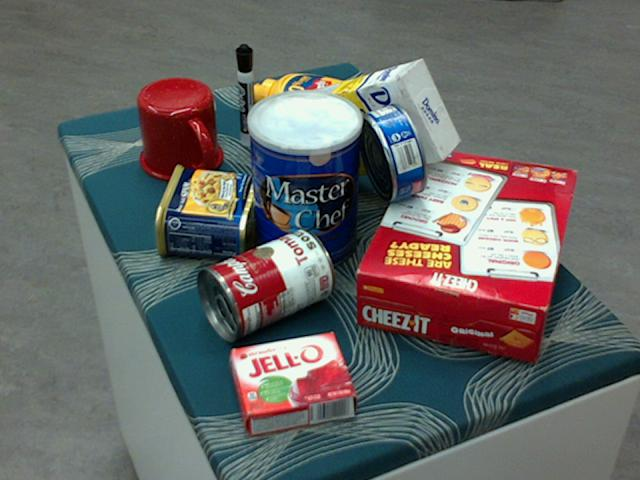cracker_box: (353, 146, 576, 361)
gelatin_box: (229, 331, 357, 434)
large_marker: (235, 43, 257, 147)
master_chef_can: (246, 91, 361, 275)
mug: (137, 77, 224, 181)
mustard_bottle: (245, 72, 413, 156)
potted_meat_can: (153, 164, 259, 257)
sugar_box: (274, 60, 459, 182)
tomato_soup_can: (195, 229, 333, 339)
tuna_fish_can: (357, 101, 428, 200)
